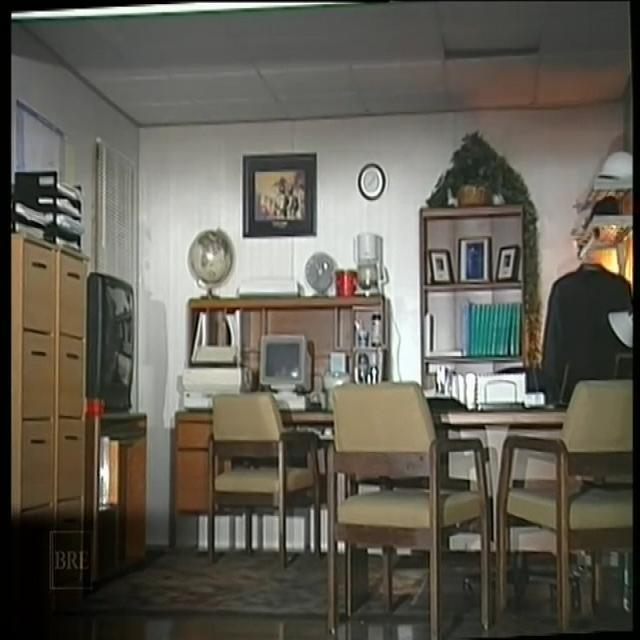Fire: (538, 154, 640, 318)
